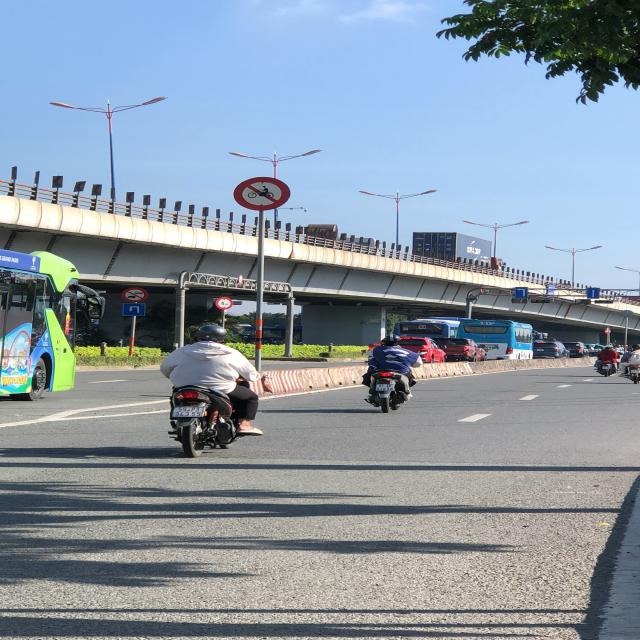Bien bao cam xe may: (230, 172, 293, 214)
